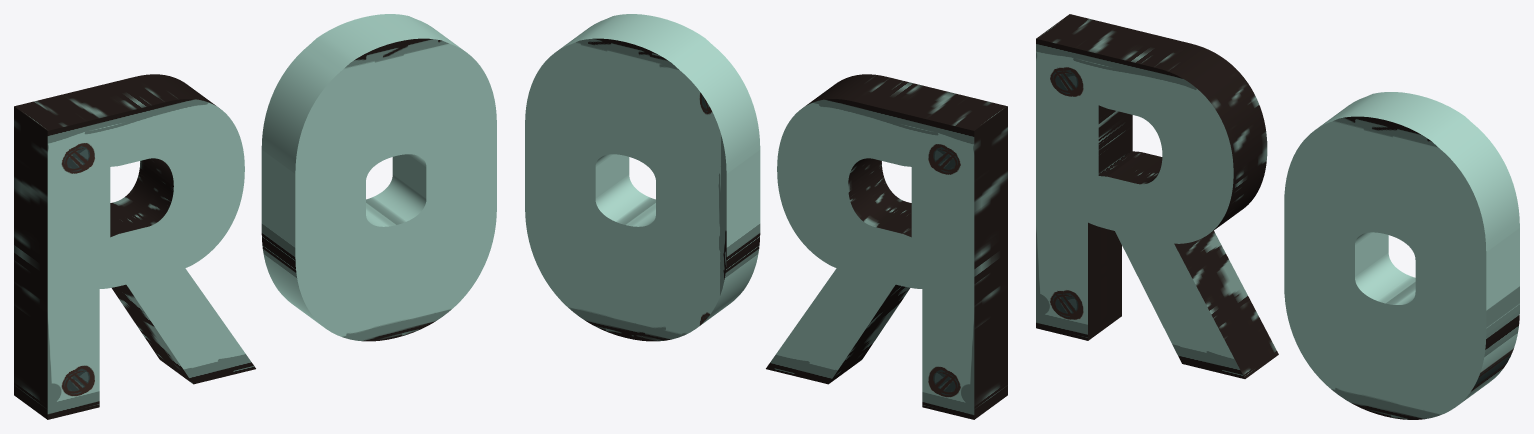
Rendered from ROModel.FBX.
3 views of the same model, side by side, from view 1: azimuth 30°, elevation 25°; view 2: azimuth 150°, elevation 25°; view 3: azimuth 330°, elevation 25° (orthographic).
Parts seen in each view (by area): view 1: Text001; view 2: Text001; view 3: Text001.
Boxes of the visible parts, x1,y1,x2,y2 form: Text001: (14,14,496,419); Text001: (525,14,1007,419); Text001: (1036,14,1519,419).
Bounding box in the file's own units: 96.28 × 60.56 × 12.5.
Materials: 1 (1 with a texture image).
